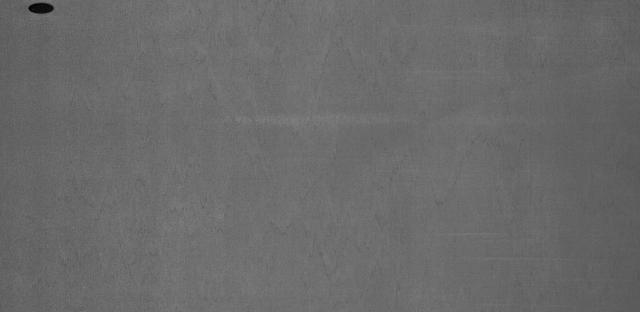punching_hole: (25, 1, 62, 18)
